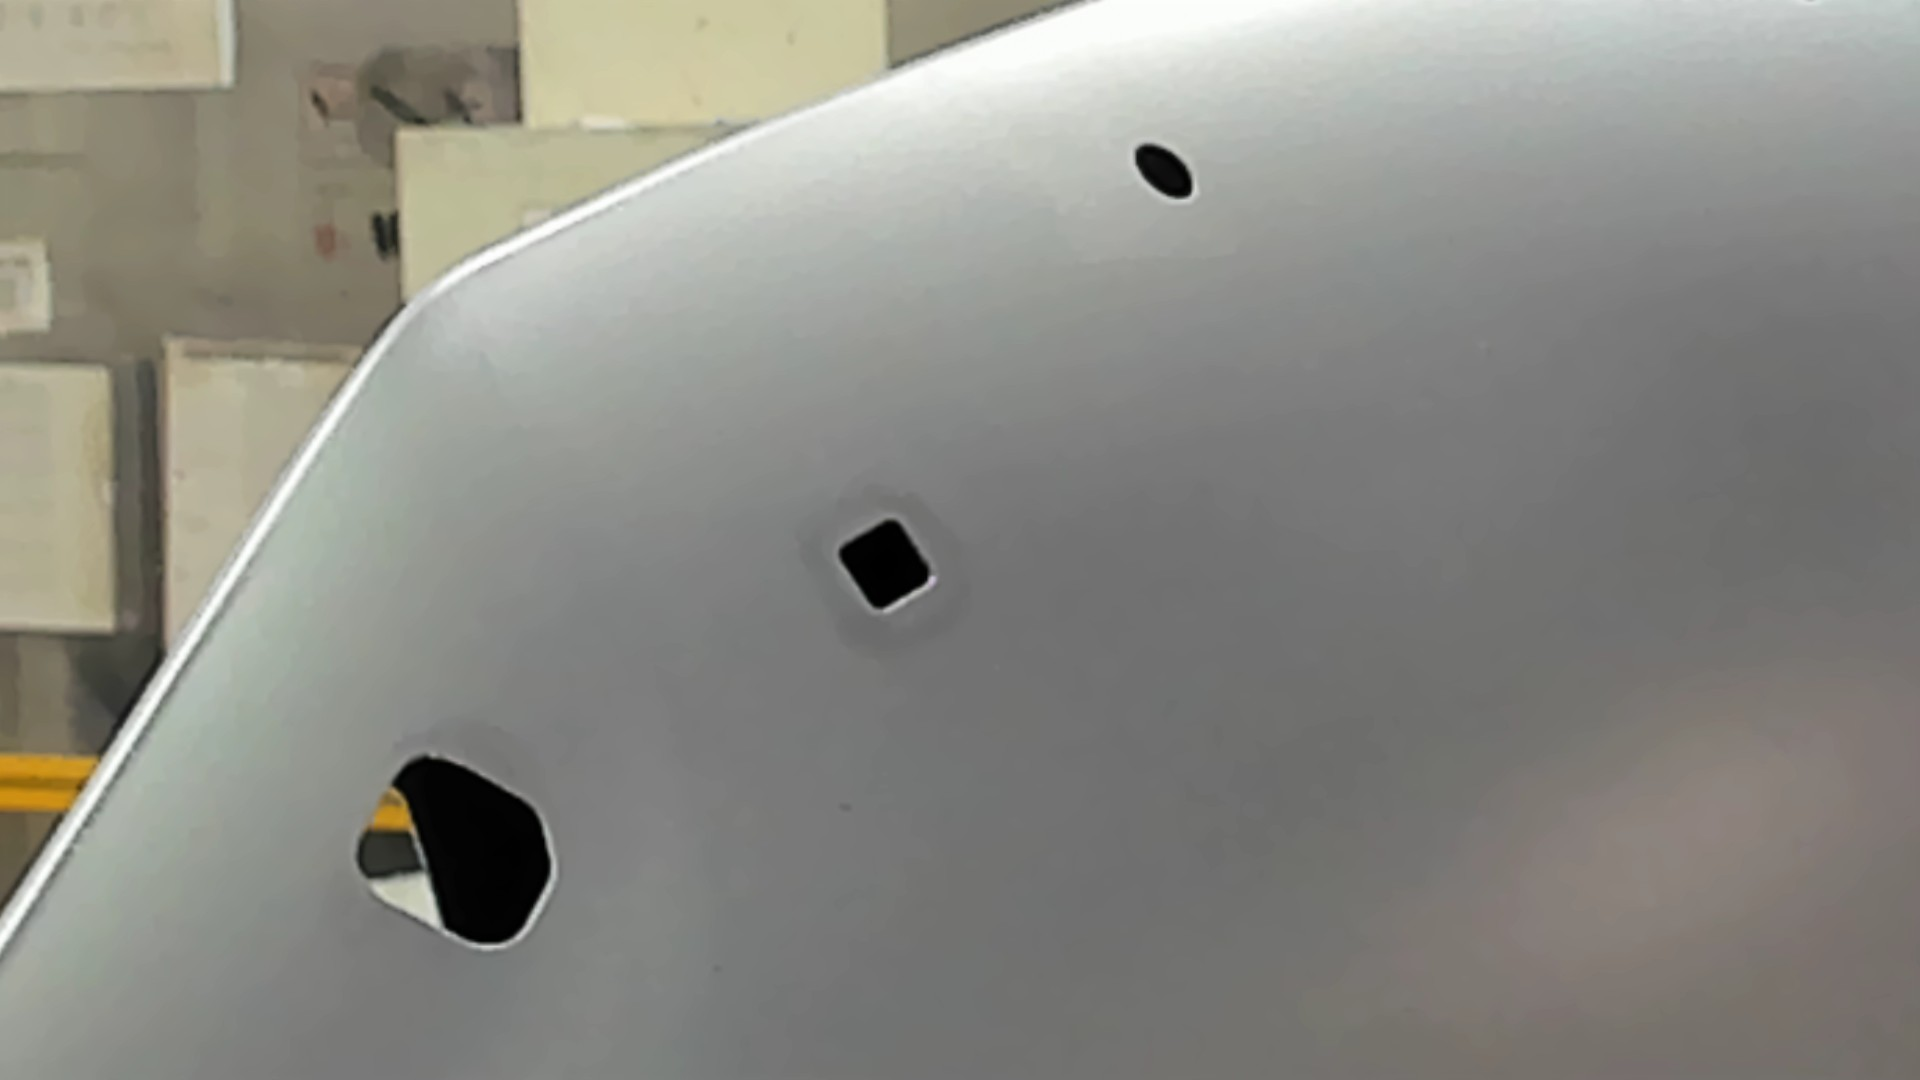chico: (1130, 137, 1201, 204)
grande: (353, 746, 560, 955)
mediano: (833, 513, 939, 618)
